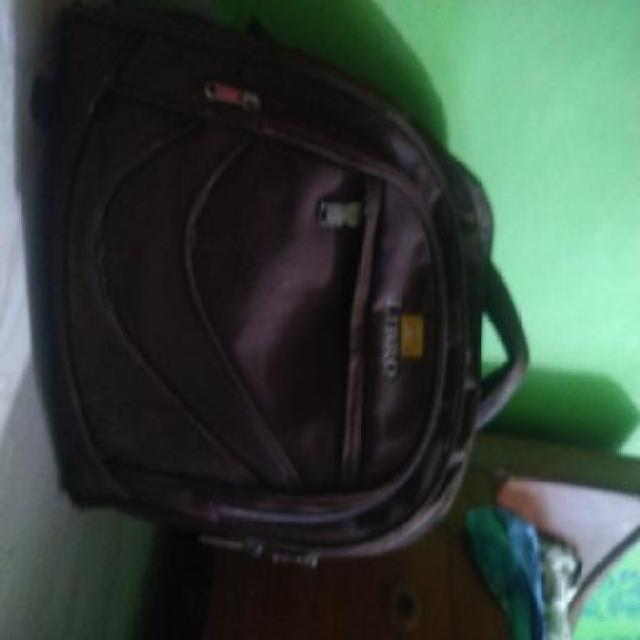backpack: (32, 0, 532, 580)
